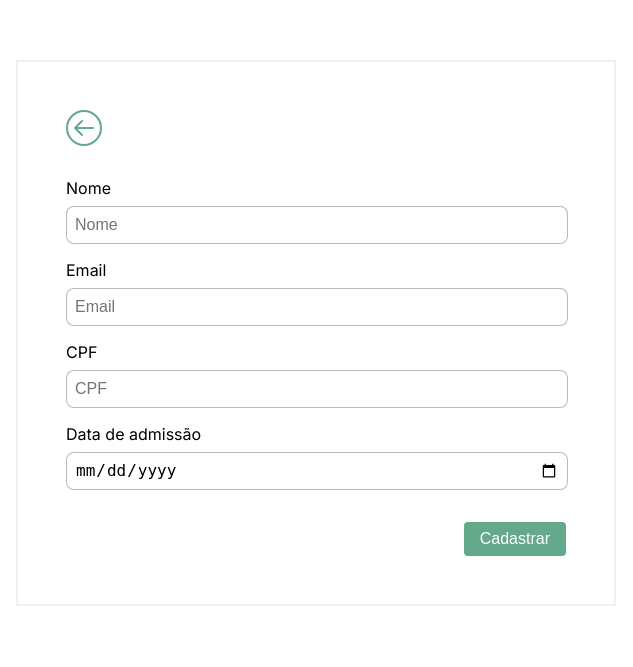
Scenario: NewUserPage Unit Tests › displays error messages for invalid form data
The width and height of the screenshot is (633, 667).
Click the button with test id "button-submit": coordinates (515, 539) [464,522,566,556]
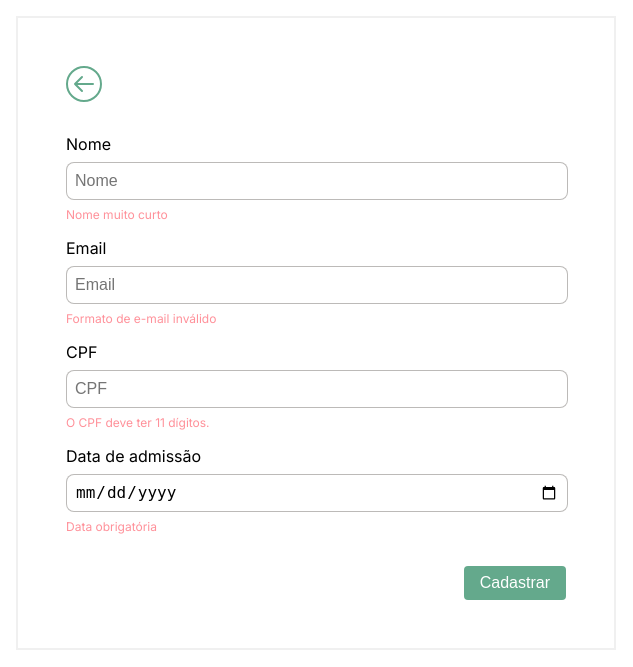
Now the text "Nome muito curto" is shown, box [66,207,168,222]
Now the text "Formato de e-mail inválido" is shown, box [66,311,216,326]
Now the text "O CPF deve ter 11 dígitos." is shown, box [66,415,210,430]
